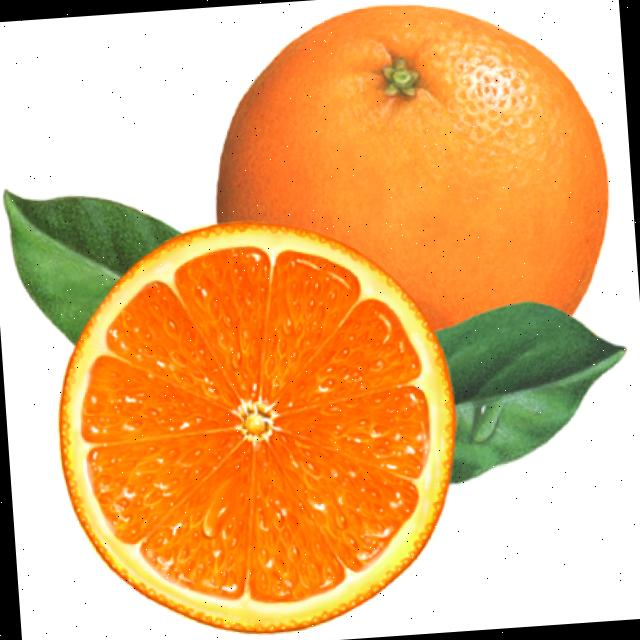Jeruk: (45, 205, 471, 640), (202, 0, 618, 348)
